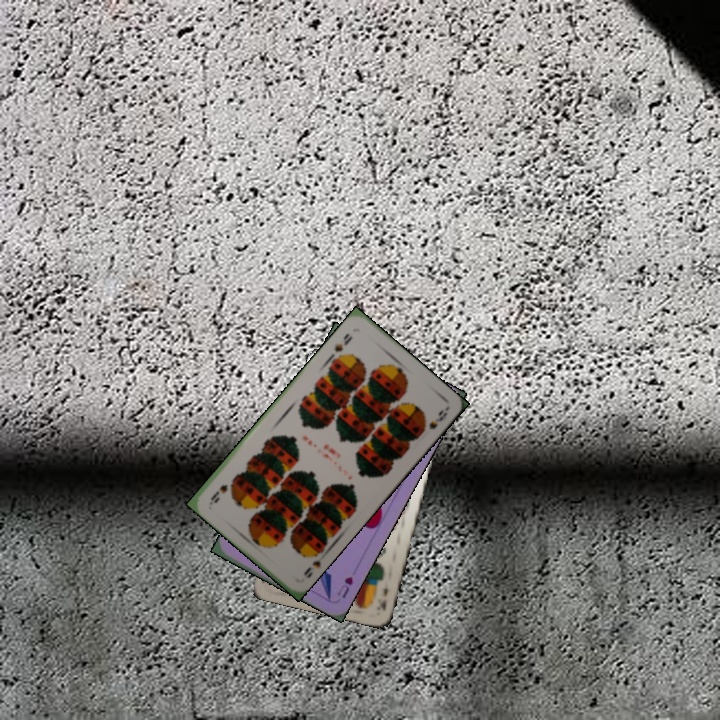EK: (375, 583, 391, 613)
HU: (333, 572, 356, 601)
S9: (299, 546, 325, 581), (330, 329, 355, 355)
